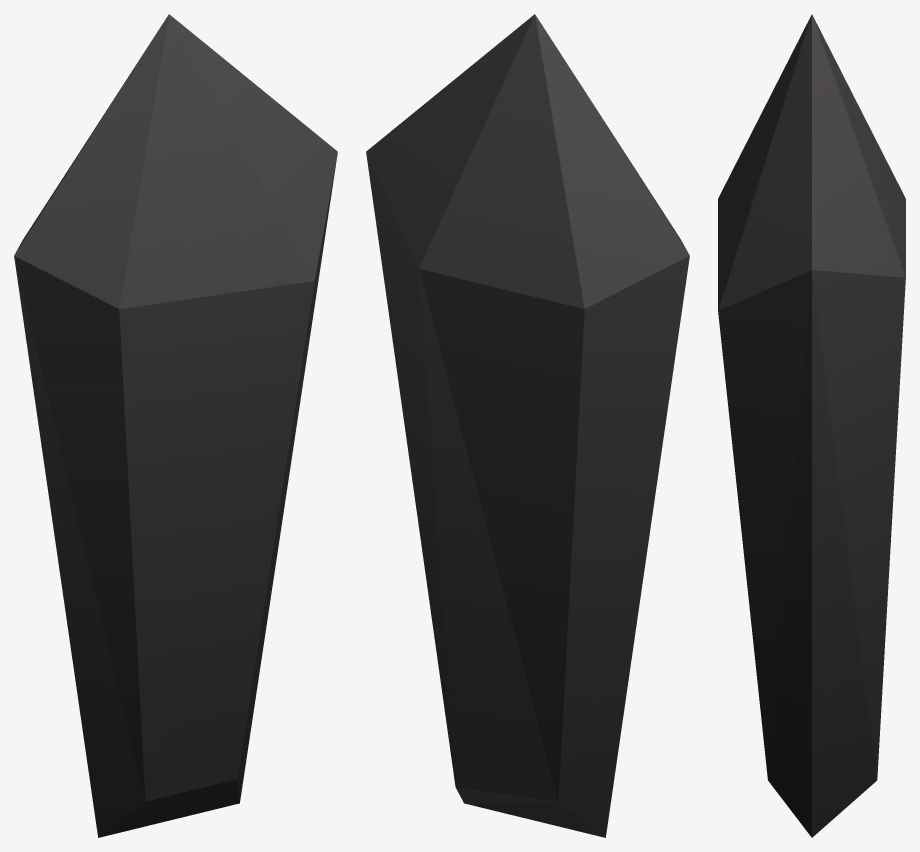
File: Crystal2.fbx
The picture shows the model from 3 angles, left to right: view 1: azimuth 30°, elevation 25°; view 2: azimuth 150°, elevation 25°; view 3: azimuth 270°, elevation 25°; orthographic projection. The views are drawn at different scales.
Visible parts, largest first — view 1: Crystal2; view 2: Crystal2; view 3: Crystal2.
Boxes of the visible parts, box(x1,y1,x2,y2) form: Crystal2: box(14, 14, 337, 837); Crystal2: box(366, 14, 689, 837); Crystal2: box(718, 14, 905, 837).
Bounding box in the file's own units: 5.14 × 12.24 × 2.64.
